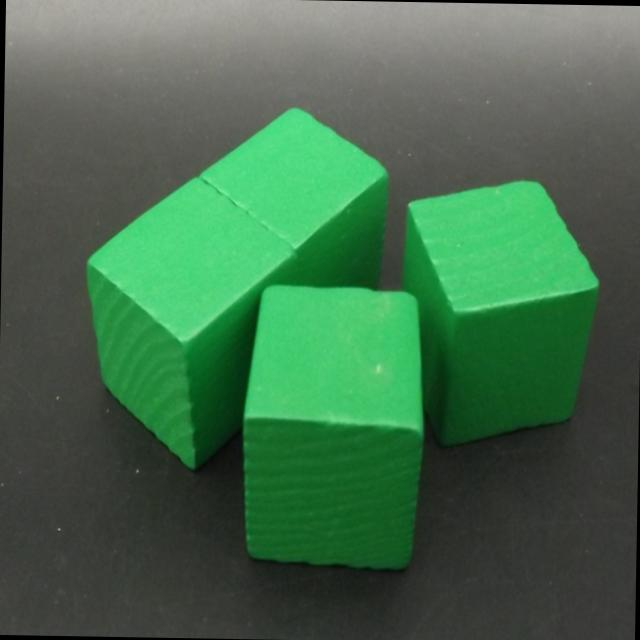green cube: (86, 177, 301, 471), (404, 180, 599, 450), (241, 285, 424, 572), (198, 107, 390, 289)
